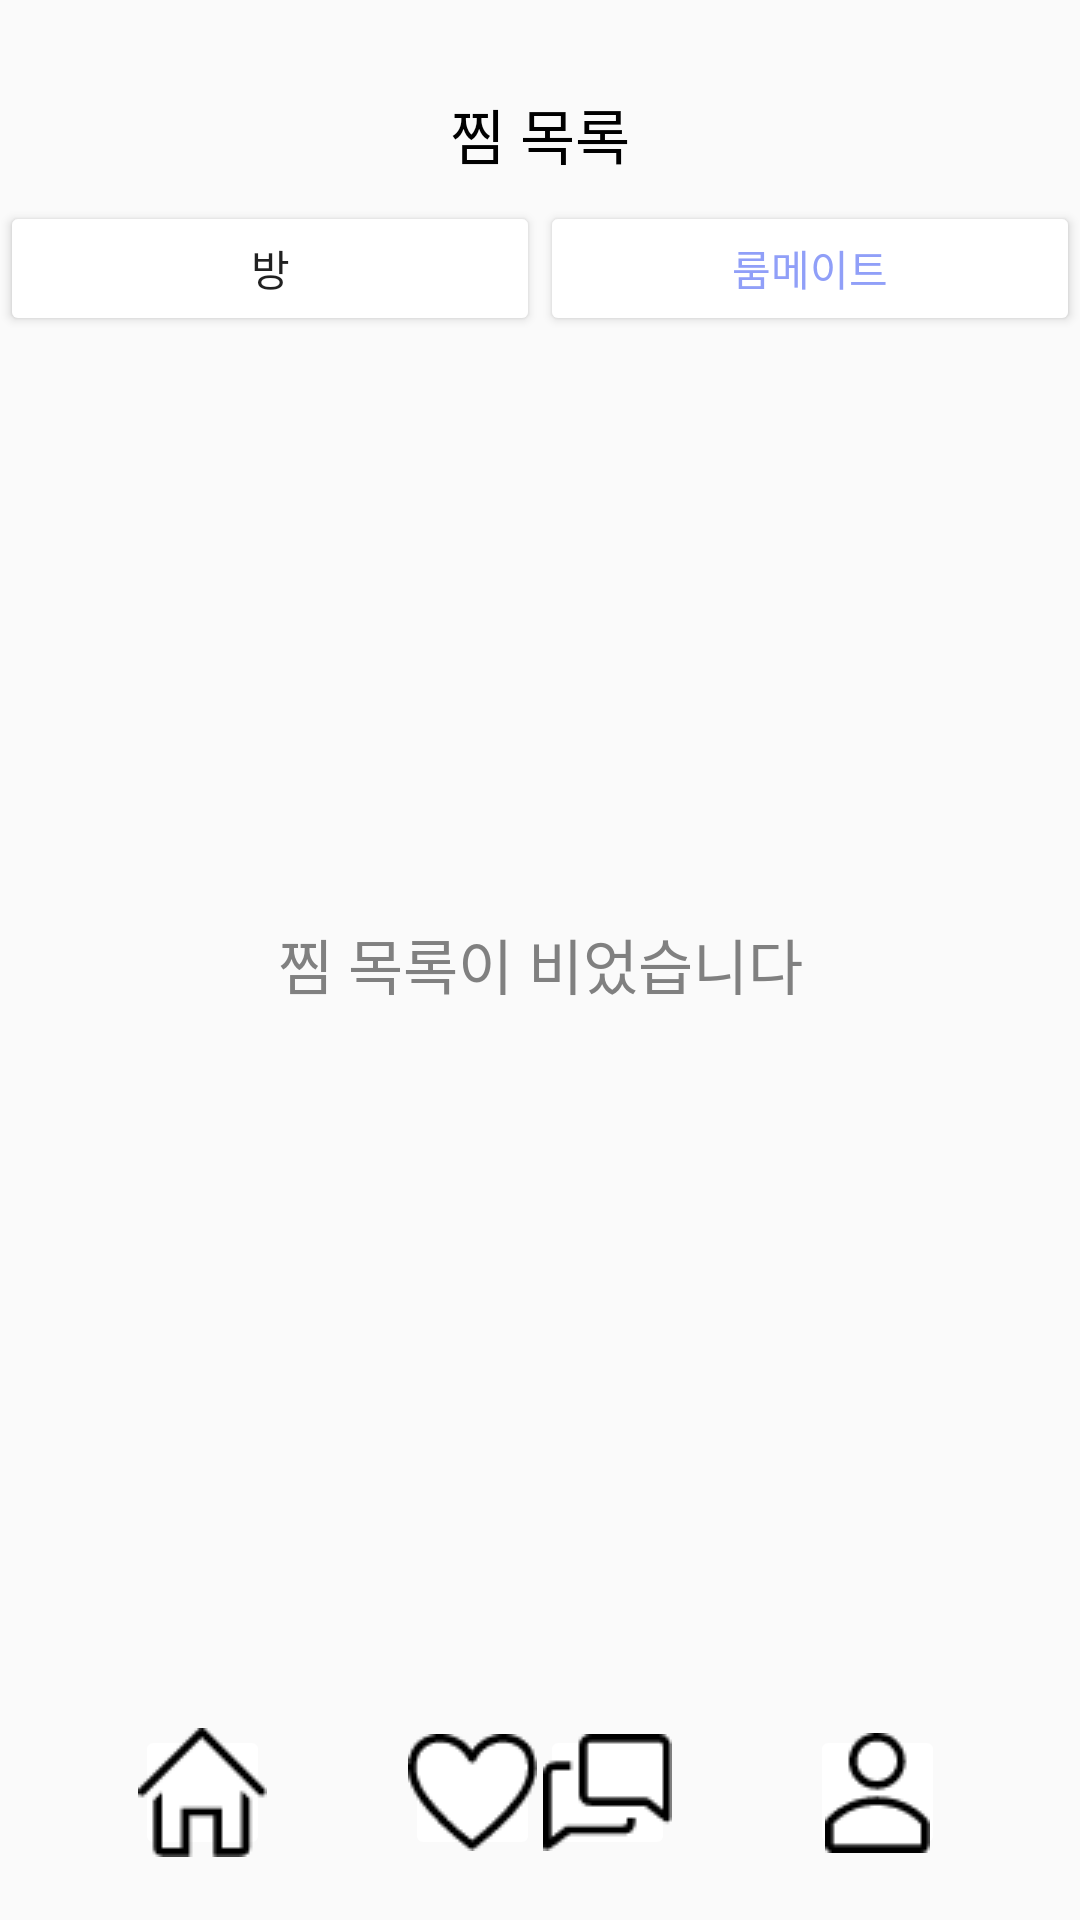

Screen size 1080px×1920px. Icon name, then its box in pixels as {"left": x1, "top": y1, "right": x2, "bottom": y2}:
heart line: {"left": 408, "top": 1734, "right": 537, "bottom": 1851}
home line: {"left": 138, "top": 1728, "right": 267, "bottom": 1857}
talk line: {"left": 543, "top": 1734, "right": 672, "bottom": 1851}
